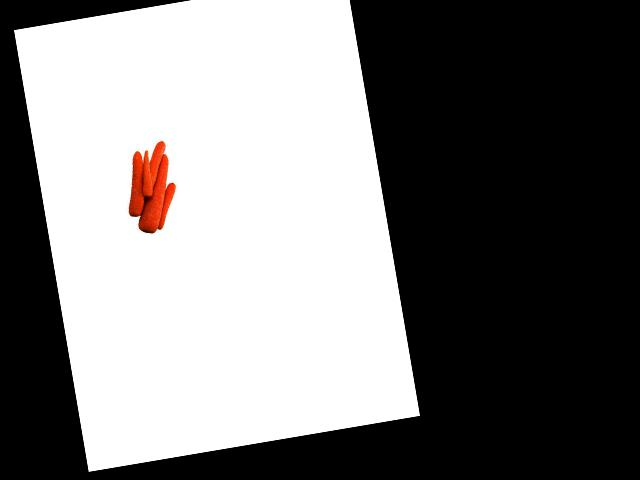carrot: (121, 148, 148, 220)
